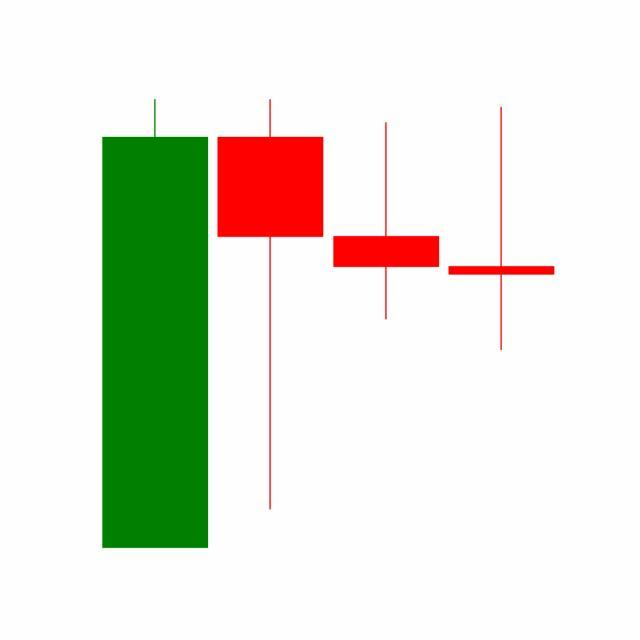Spinning Top: (329, 121, 445, 323)
